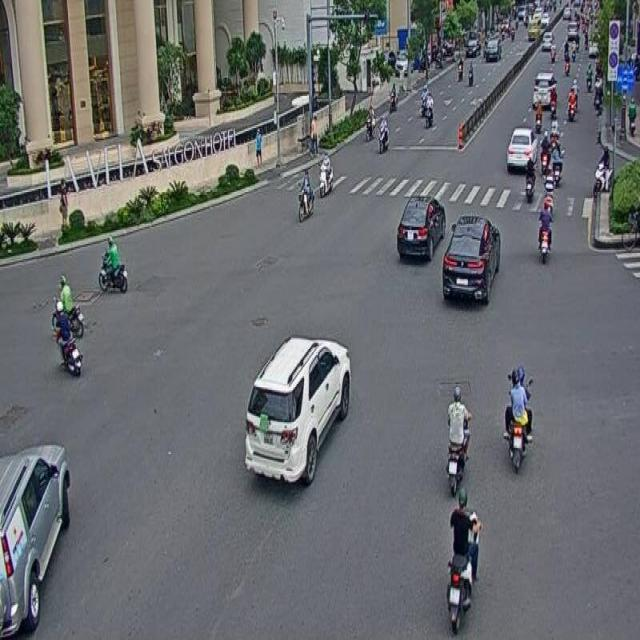car: (244, 335, 350, 486), (0, 445, 69, 640), (442, 215, 500, 302), (396, 195, 445, 259), (506, 128, 538, 166)
motorcycle: (447, 486, 481, 634), (502, 366, 534, 472), (446, 384, 471, 492), (54, 299, 84, 376), (58, 274, 84, 338), (98, 235, 127, 292), (536, 198, 554, 262), (297, 168, 314, 222), (317, 149, 333, 198)
